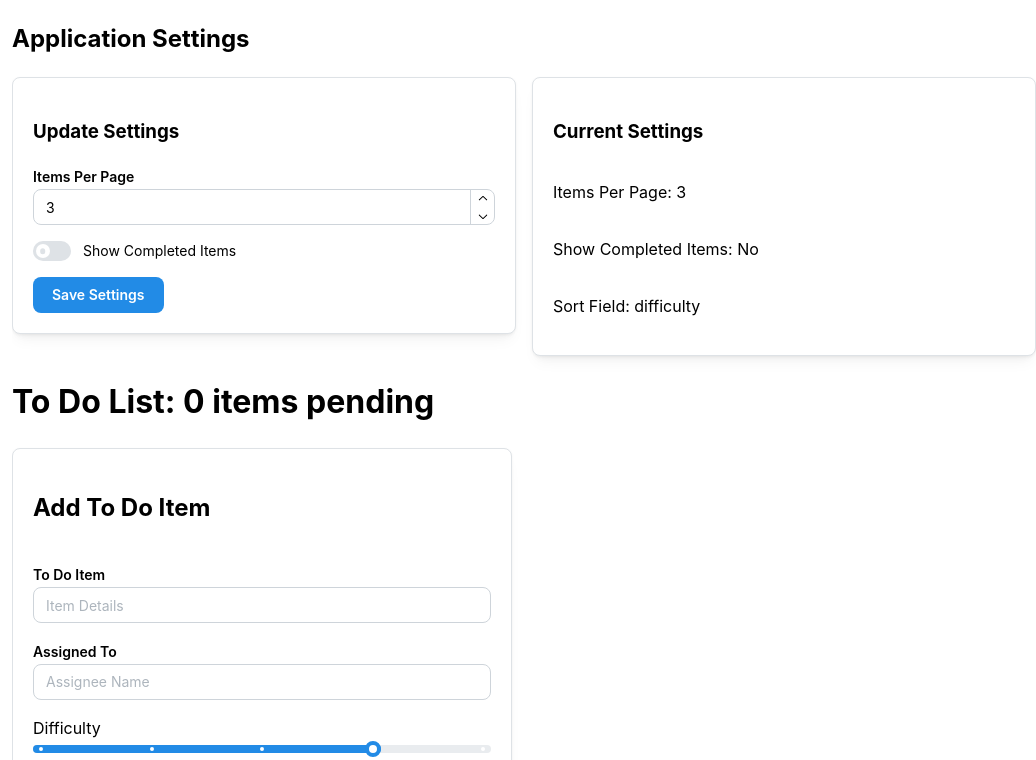
Scenario: Settings Component Tests › allows users to update application settings
This screenshot has width=1036, height=760.
Replace the text in the field labelled "Items Per Page" with "2" at (264,207), box x1=33 y1=189 x2=495 y2=225
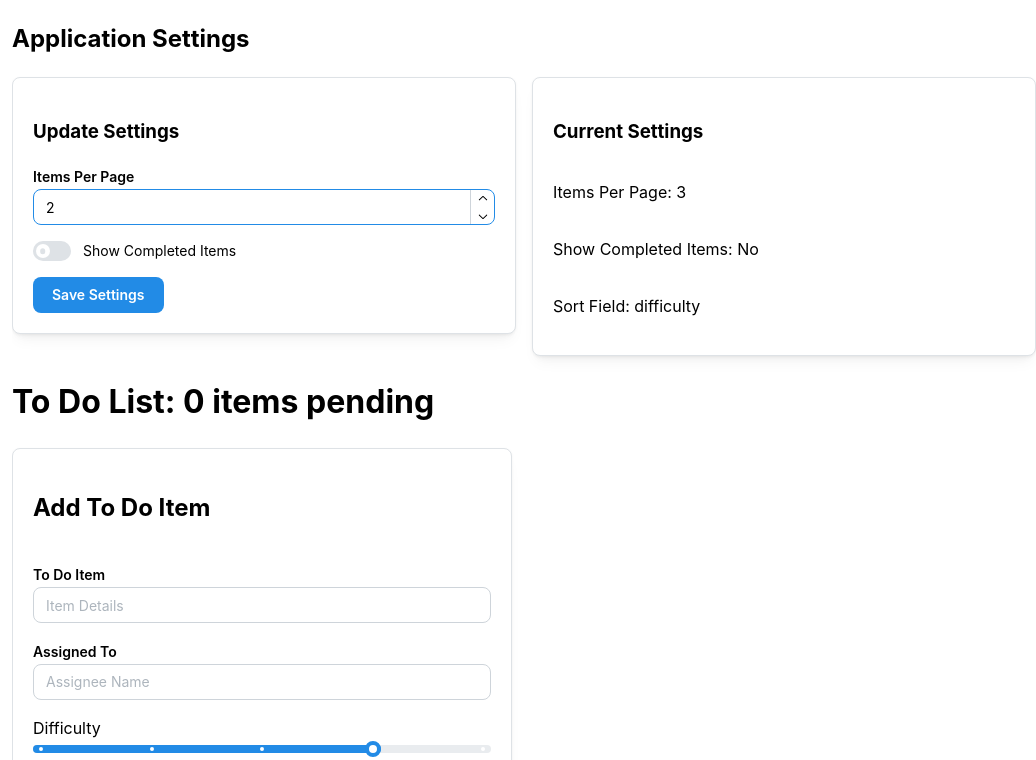
Click the switch labelled "Show Completed Items".
click(135, 251)  # box x1=33 y1=241 x2=236 y2=261
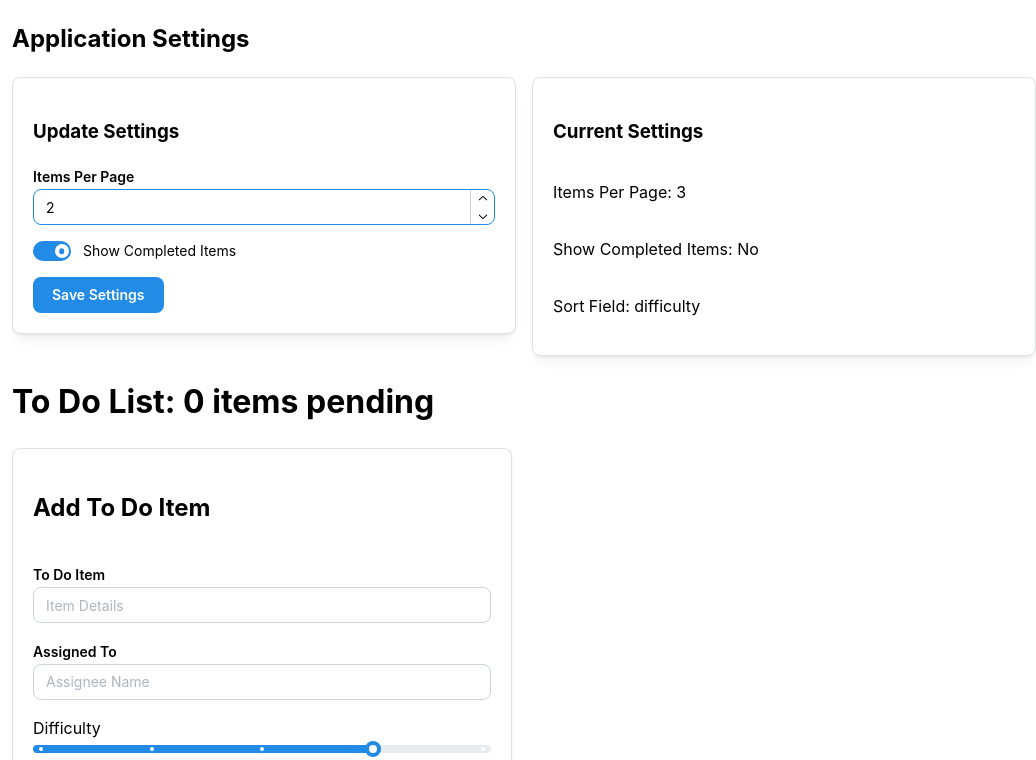
Click the button "Save Settings".
click(98, 295)  # box x1=33 y1=277 x2=164 y2=313
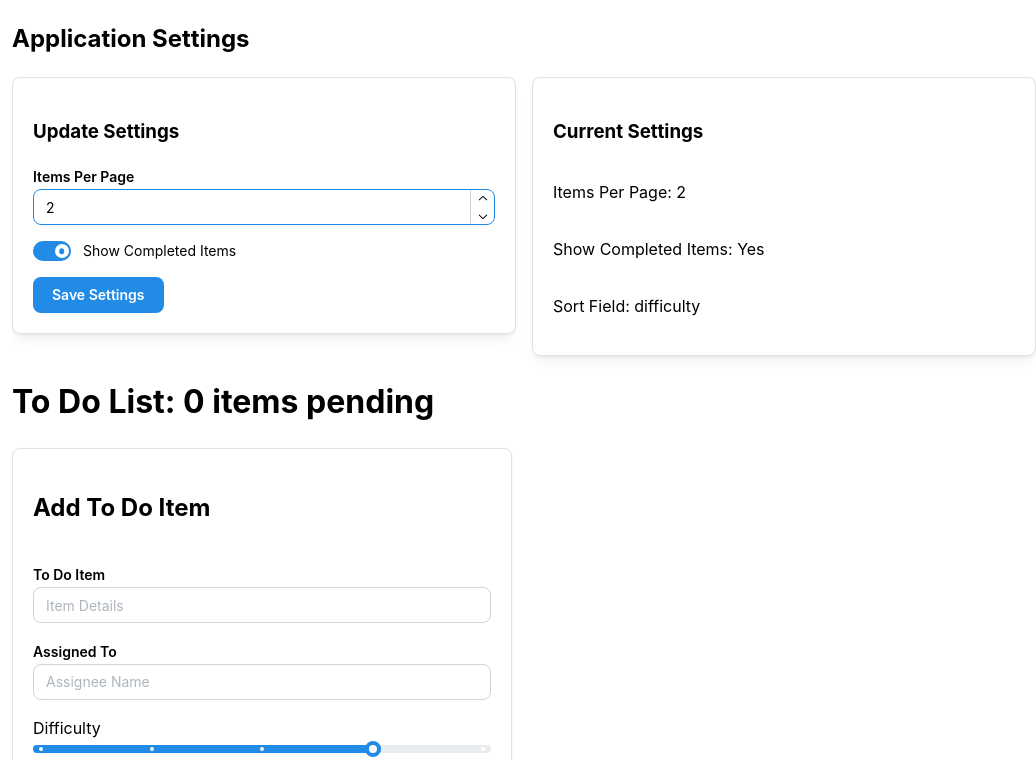
Expected: the text "Items Per Page: 2" is shown, x1=553 y1=182 x2=686 y2=202
Expected: the text "Show Completed Items: Yes" is shown, x1=553 y1=239 x2=764 y2=259
